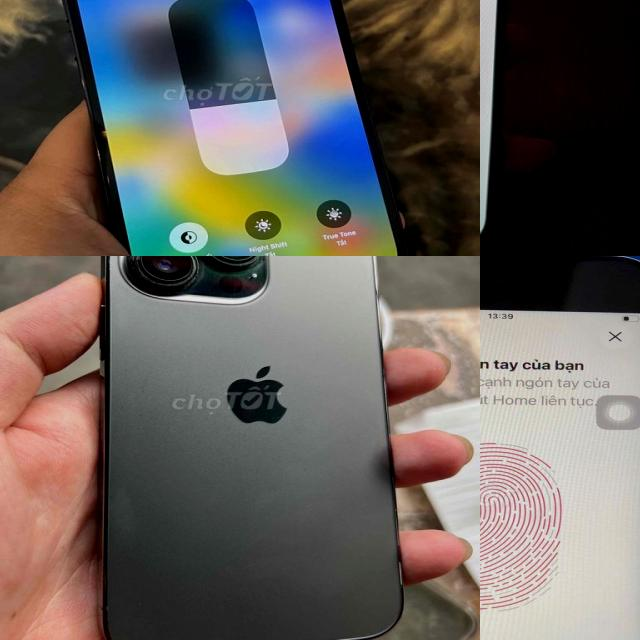gen_12_13: (94, 256, 408, 640), (43, 0, 411, 256)
gen_15: (480, 0, 512, 256)
gen_7_8: (480, 256, 640, 640)
